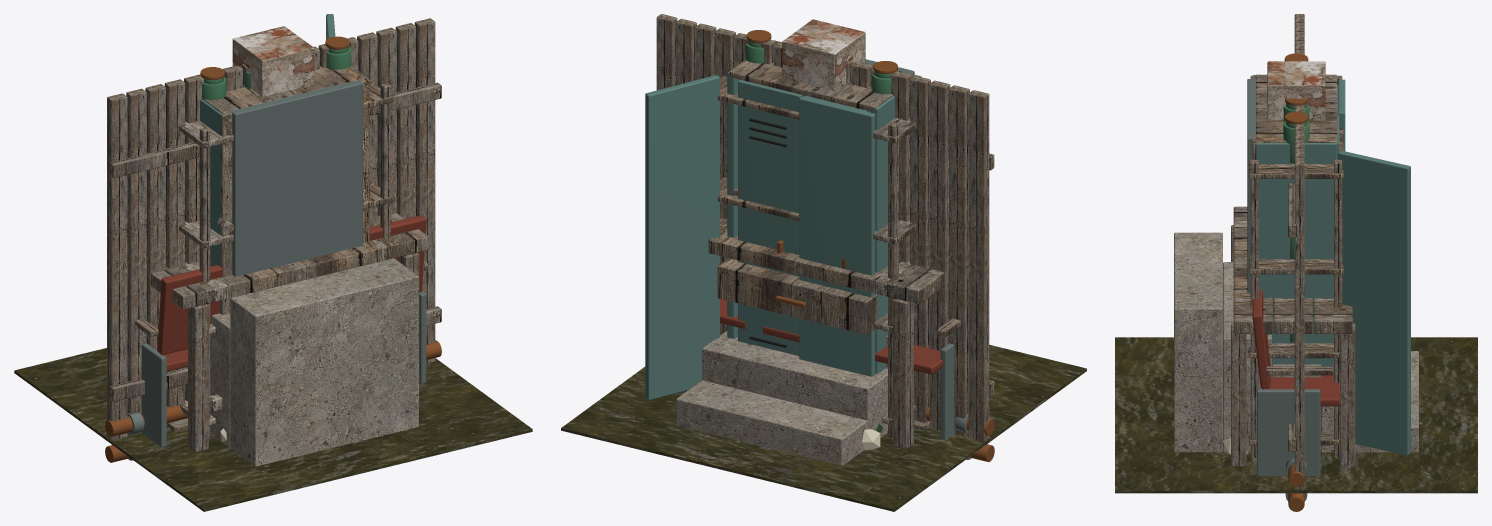
File: basement_props.glb
3 renders of one model, left to right at view 1: azimuth 30°, elevation 25°; view 2: azimuth 150°, elevation 25°; view 3: azimuth 270°, elevation 25°, orthographic. The views are drawn at different scales.
Parts seen in each view (by area): view 1: p_bsm_slats, p_bsm_stairs, p_bsm_water, p_bsm_locker, p_bsm_workbench, p_bsm_seats, p_bsm_cabinet, p_bsm_shelf_jars, p_bsm_pillar, p_bsm_shelf_wood, p_bsm_pipe; view 2: p_bsm_cabinet, p_bsm_slats, p_bsm_water, p_bsm_stairs, p_bsm_workbench, p_bsm_locker, p_bsm_shelf_jars, p_bsm_pillar, p_bsm_seats, p_bsm_shelf_wood; view 3: p_bsm_cabinet, p_bsm_water, p_bsm_stairs, p_bsm_workbench, p_bsm_shelf_jars, p_bsm_seats, p_bsm_slats, p_bsm_pillar, p_bsm_shelf_wood, p_bsm_locker.
Boxes of the visible parts, box(x1,y1,x2,y2) form: p_bsm_slats: box(107, 18, 441, 439); p_bsm_stairs: box(210, 258, 418, 466); p_bsm_water: box(14, 348, 532, 511); p_bsm_locker: box(231, 80, 362, 276); p_bsm_workbench: box(151, 213, 428, 451); p_bsm_seats: box(135, 215, 428, 446); p_bsm_cabinet: box(183, 14, 369, 314); p_bsm_shelf_jars: box(179, 36, 392, 438); p_bsm_pillar: box(232, 26, 314, 96); p_bsm_shelf_wood: box(180, 80, 392, 438); p_bsm_pipe: box(105, 340, 441, 436); p_bsm_cabinet: box(645, 40, 921, 400); p_bsm_slats: box(656, 14, 994, 441); p_bsm_water: box(561, 344, 1086, 511); p_bsm_stairs: box(676, 330, 887, 465); p_bsm_workbench: box(679, 217, 944, 448); p_bsm_locker: box(738, 41, 914, 355); p_bsm_shelf_jars: box(717, 30, 916, 437); p_bsm_pillar: box(782, 19, 865, 90); p_bsm_seats: box(720, 299, 960, 440); p_bsm_shelf_wood: box(718, 95, 915, 438); p_bsm_cabinet: box(1252, 74, 1410, 455); p_bsm_water: box(1115, 337, 1477, 493); p_bsm_stairs: box(1174, 232, 1418, 452); p_bsm_workbench: box(1231, 206, 1355, 466); p_bsm_shelf_jars: box(1249, 53, 1343, 457); p_bsm_seats: box(1252, 289, 1340, 475); p_bsm_slats: box(1288, 14, 1304, 489); p_bsm_pillar: box(1267, 61, 1325, 120); p_bsm_shelf_wood: box(1249, 75, 1343, 457); p_bsm_locker: box(1247, 79, 1339, 293).
Bounding box in the file's own units: 2 × 2.3 × 2.
Materials: 15 (4 with a texture image).
